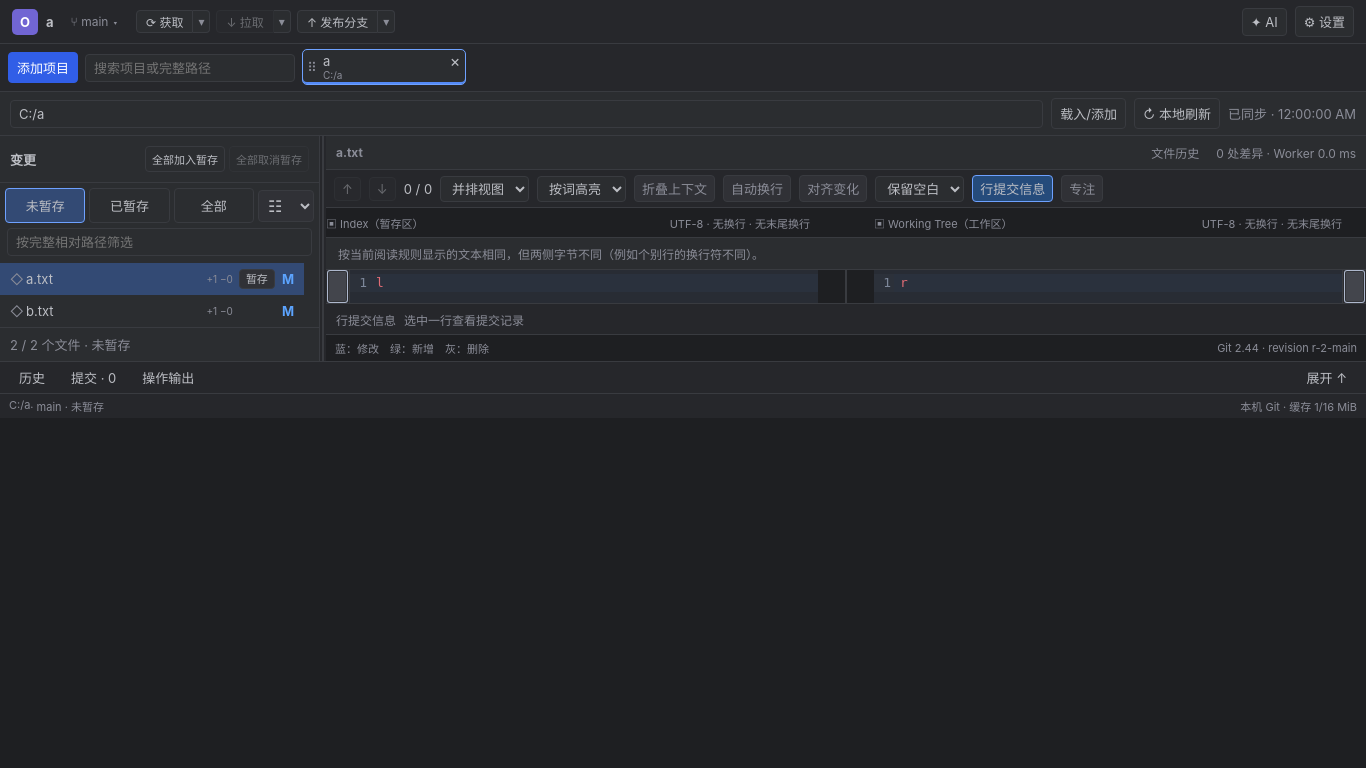
Test case: branch popover (B10) › history branch menu: 放弃修改后切换 after Git refuses the switch
Step 1. Click the tab "历史" → (32, 378), box x1=8 y1=364 x2=56 y2=390
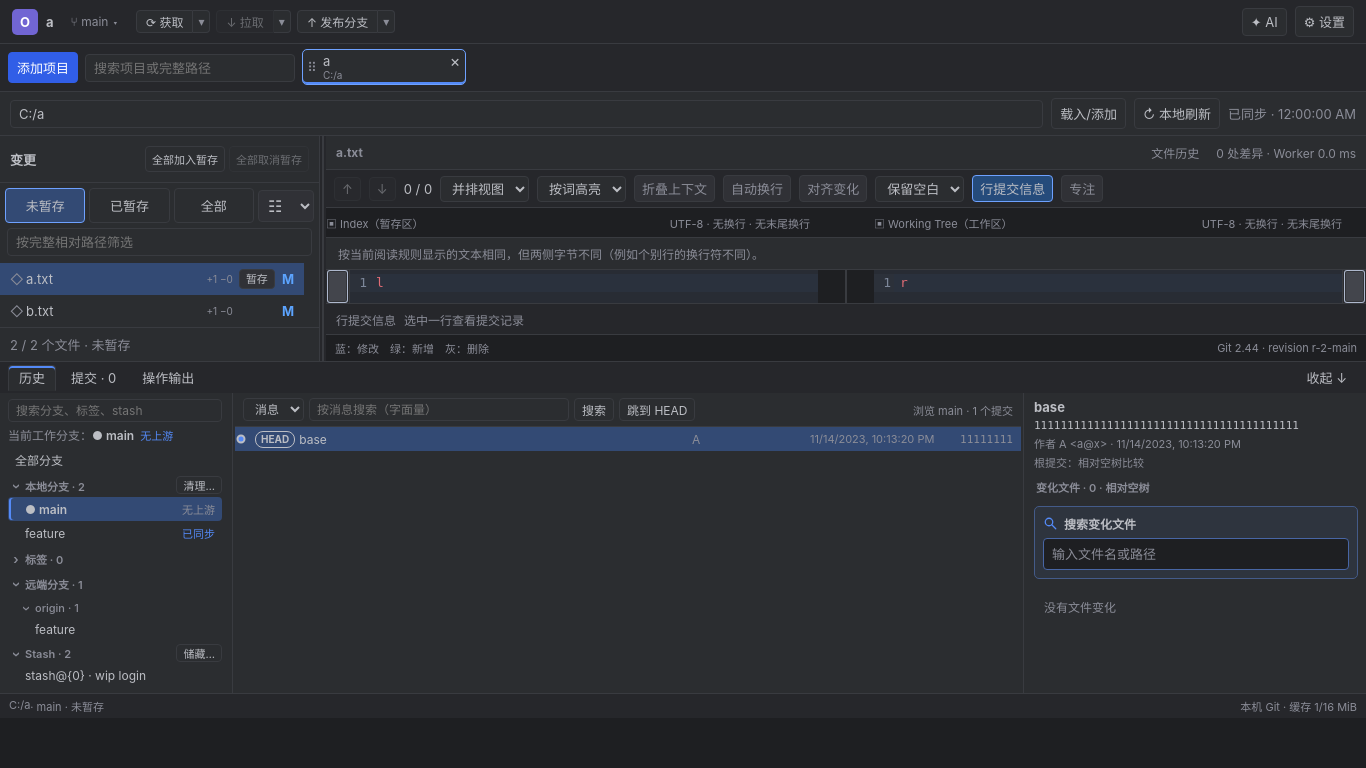
Step 2. Right-click the option with class "log-branch" showing "feature 已同步" → (115, 533), box x1=8 y1=521 x2=222 y2=545
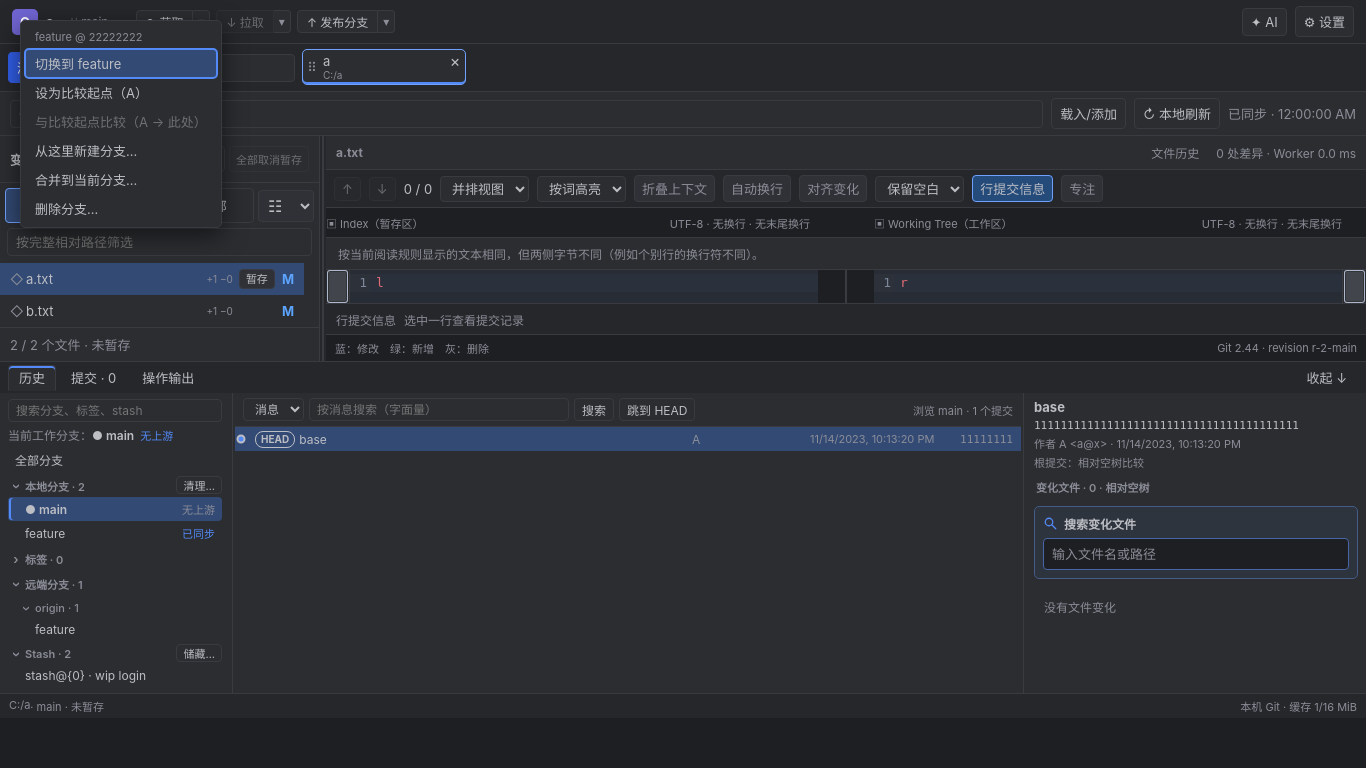
Expected: the menu item "切换到 feature" is shown
Step 3. Click the menu item "切换到 feature" → (121, 64), box x1=25 y1=49 x2=217 y2=78
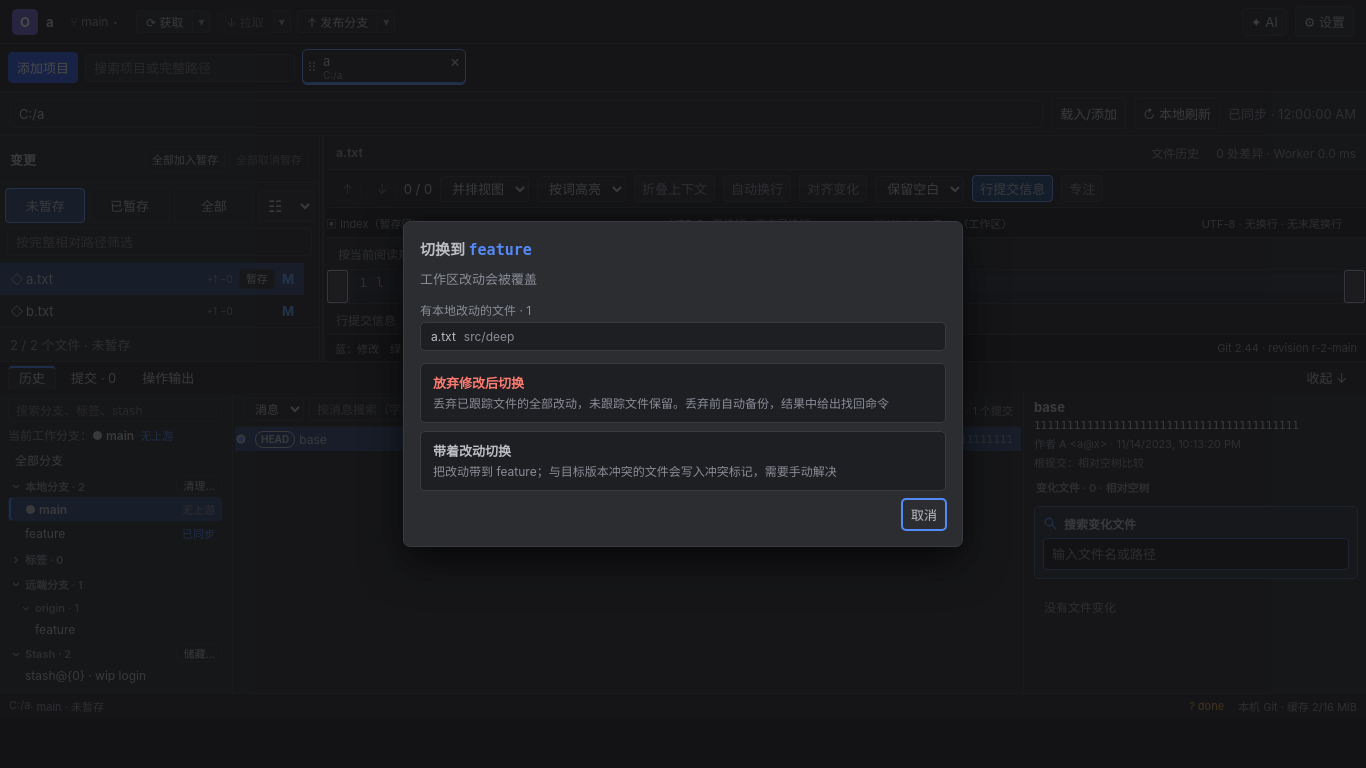
Expected: the heading "切换到 feature" is shown, x1=420 y1=240 x2=532 y2=259
Expected: the menu with class "log-menu" is gone
Expected: the text with class "switch-file-name" reads "a.txt", x1=431 y1=329 x2=456 y2=344
Step 4. Click the button with class "switch-option" that starts with "放弃修改后切换" → (683, 393), box x1=420 y1=363 x2=946 y2=423
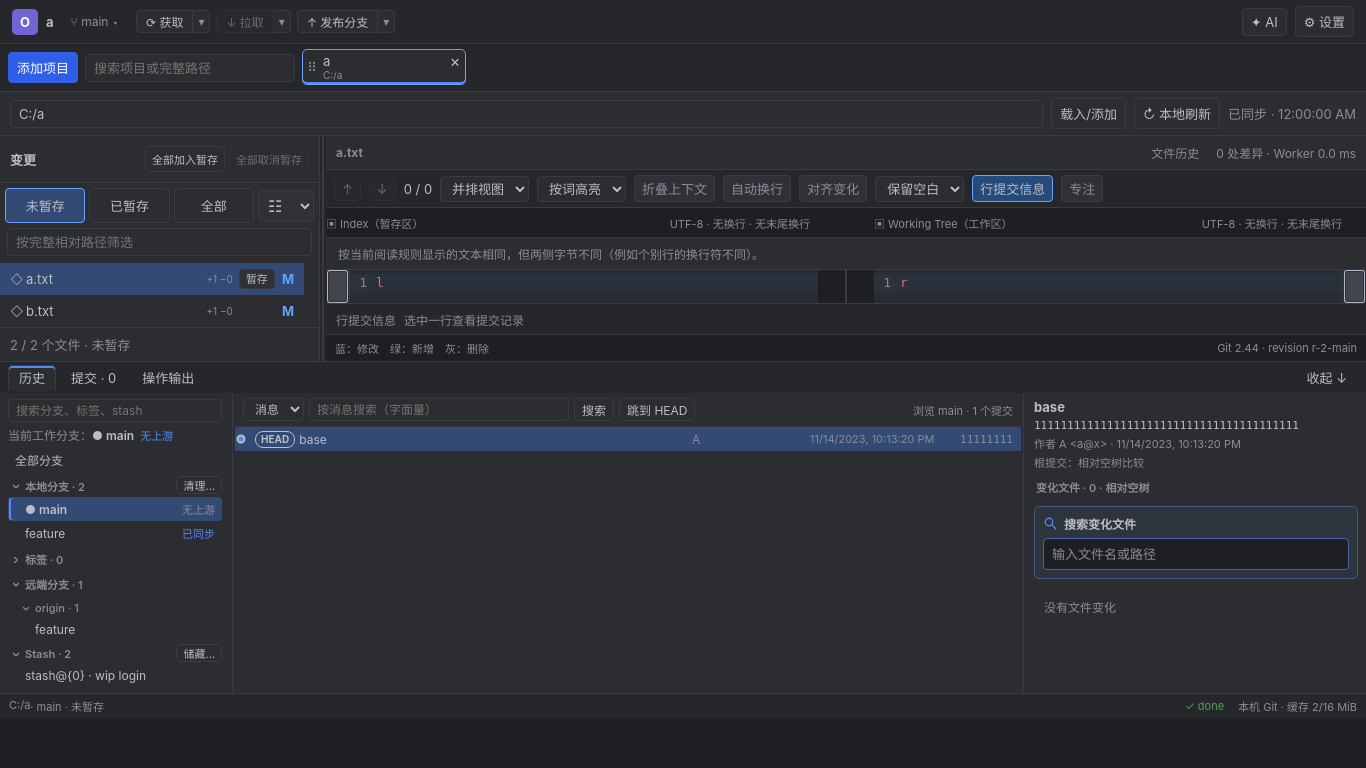
Expected: the dialog with class "switch-dialog" is gone
